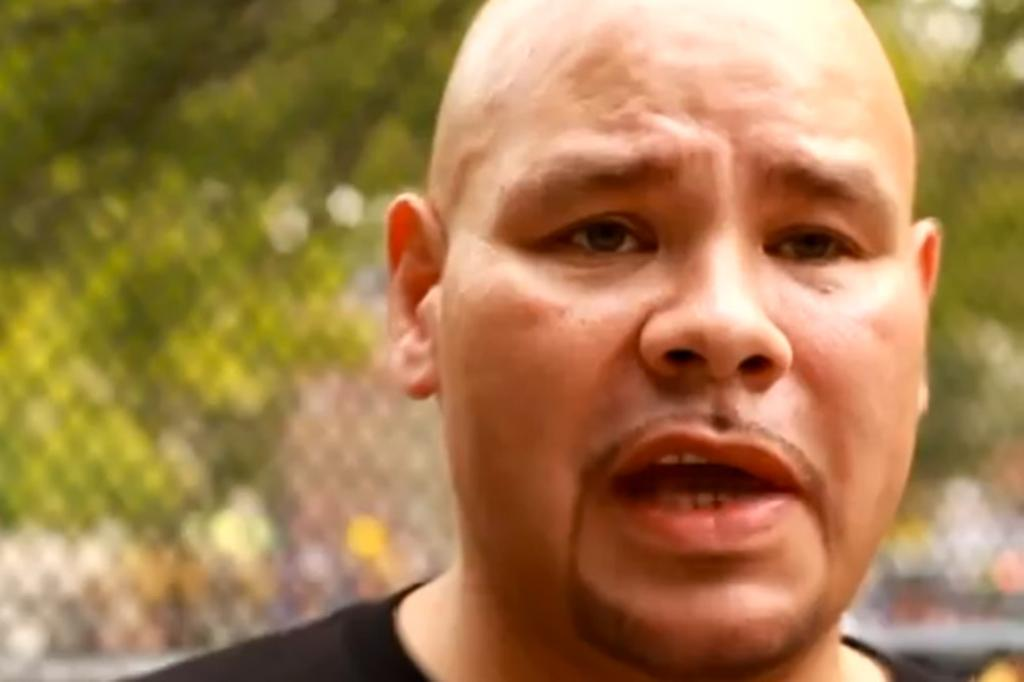face: (452, 12, 924, 656)
